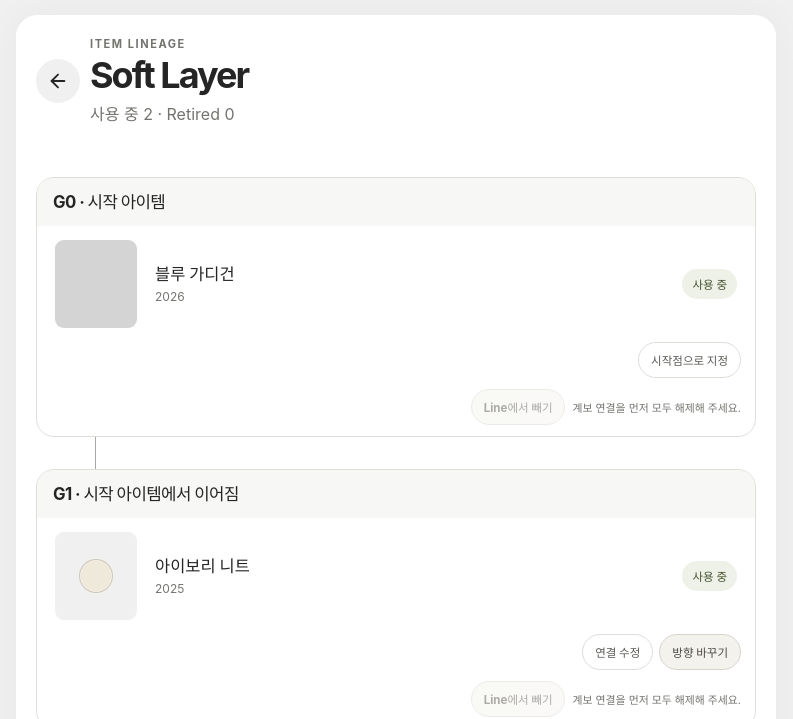
Scenario: ReplacementLineagePage › reverses a confirmed edge only after confirmation and recalculates generations
Check: the heading "Soft Layer" is shown, box [90,57,248,95]
Click the button with aria-label "블루 가디건에서 아이보리 니트으로 이어진 방향 바꾸기" at (700, 652), box [659,634,741,670]
(page scrolled)
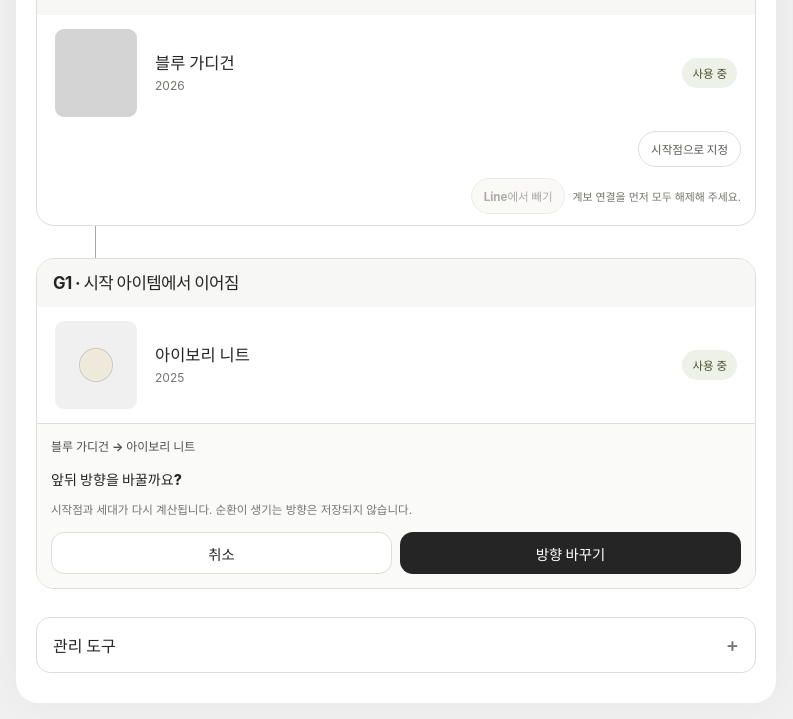
Check: the text "앞뒤 방향을 바꿀까요?" is shown, box [51,471,182,488]
Check: the text "시작점과 세대가 다시 계산됩니다. 순환이 생기는 방향은 저장되지 않습니다." is shown, box [51,503,412,517]
Click the button "방향 바꾸기" at (570, 553), box [400,532,741,574]
(page scrolled)
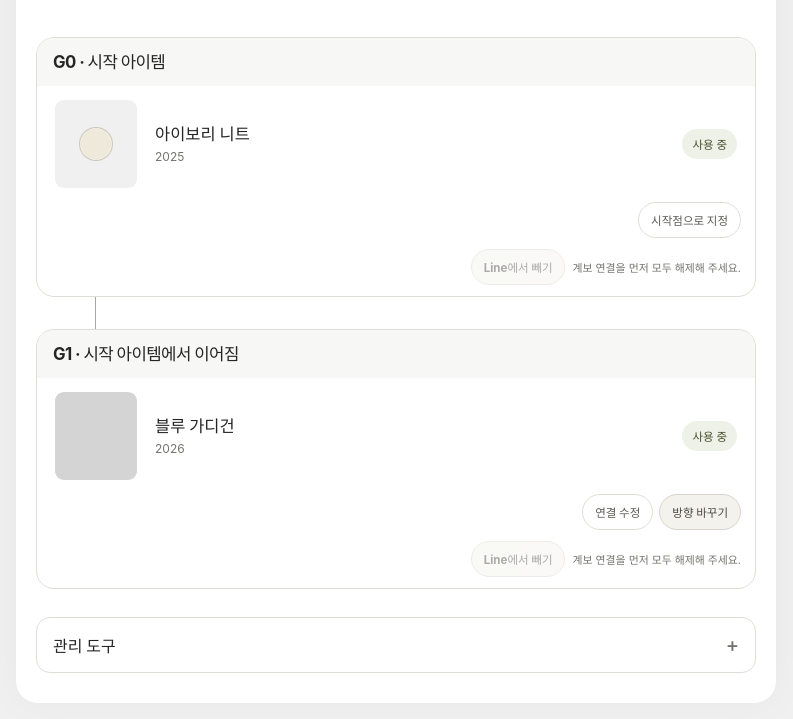
Check: the element "G0 · 시작 아이템" is shown, box [36,37,756,297]
Check: the text "아이보리 니트" is shown, box [155,124,250,144]
Check: the text "블루 가디건" is shown, box [155,416,235,436]
